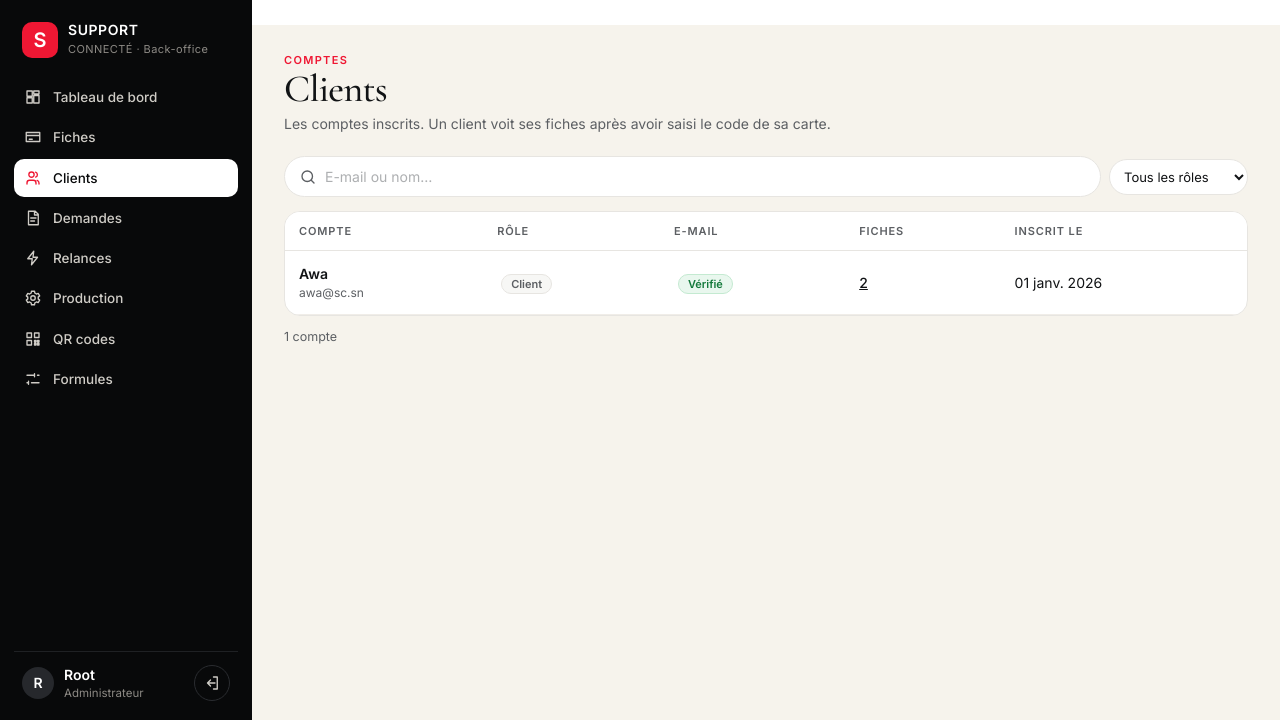
Test: pages du back-office › un client ouvre la liste de ses fiches (?userId=)
Step 1. Click the row that starts with "Awa" → (766, 283), box [285,251,1247,315]
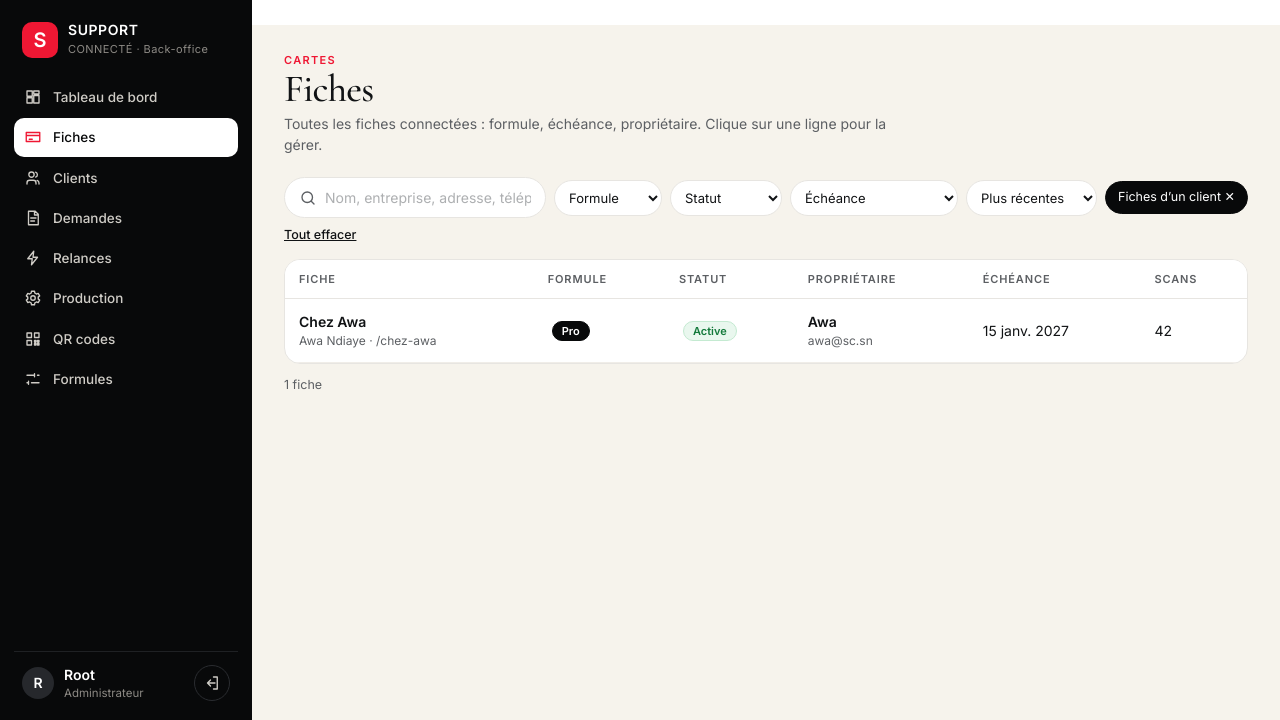
Check: the text with test id "where" reads "/admin/fiches?userId=9", box [0,2,180,22]
Check: the text "Fiches d’un client" is shown, box [1105,181,1248,214]
